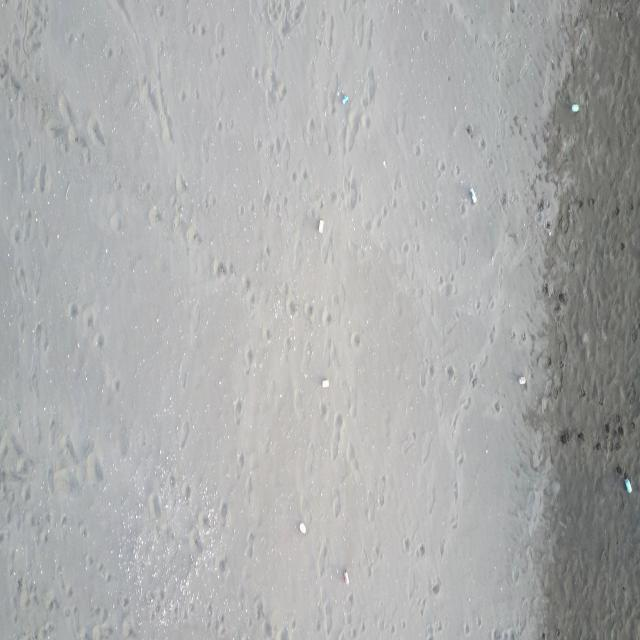Garbage: (624, 476, 631, 492), (468, 187, 475, 203), (342, 568, 347, 584), (318, 219, 324, 232), (299, 522, 306, 533), (320, 377, 327, 387), (340, 94, 347, 103), (571, 103, 579, 110), (517, 376, 524, 384)
